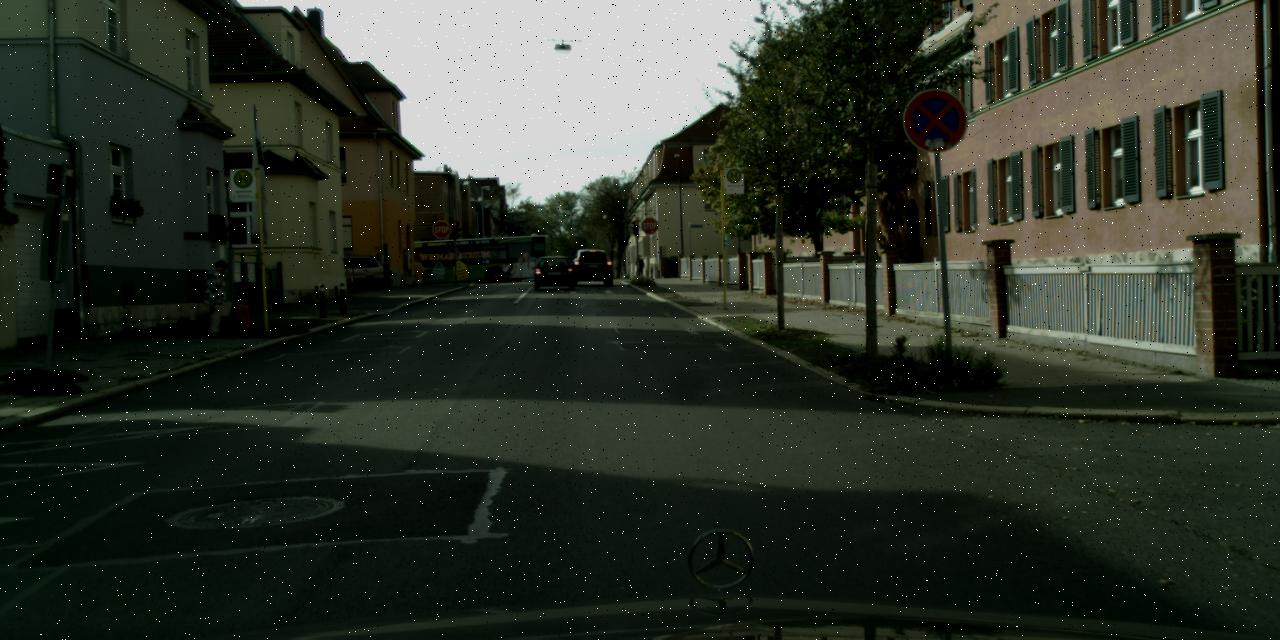ped: (202, 260, 234, 336), (635, 255, 644, 278)
